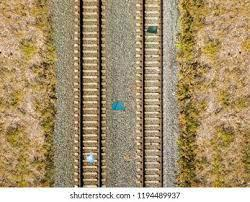Dust_screen: (111, 98, 127, 113), (147, 23, 160, 37)
Plastic: (80, 151, 95, 164)
